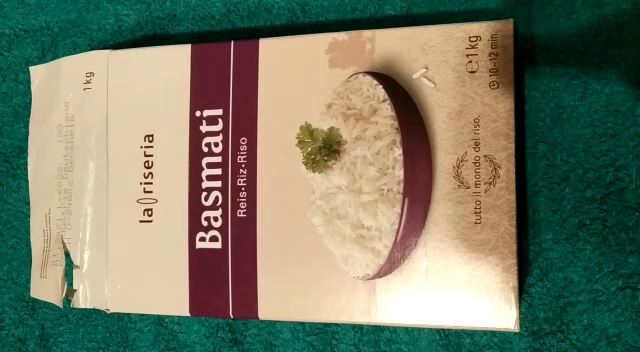basmati_rice: (20, 16, 525, 334)
